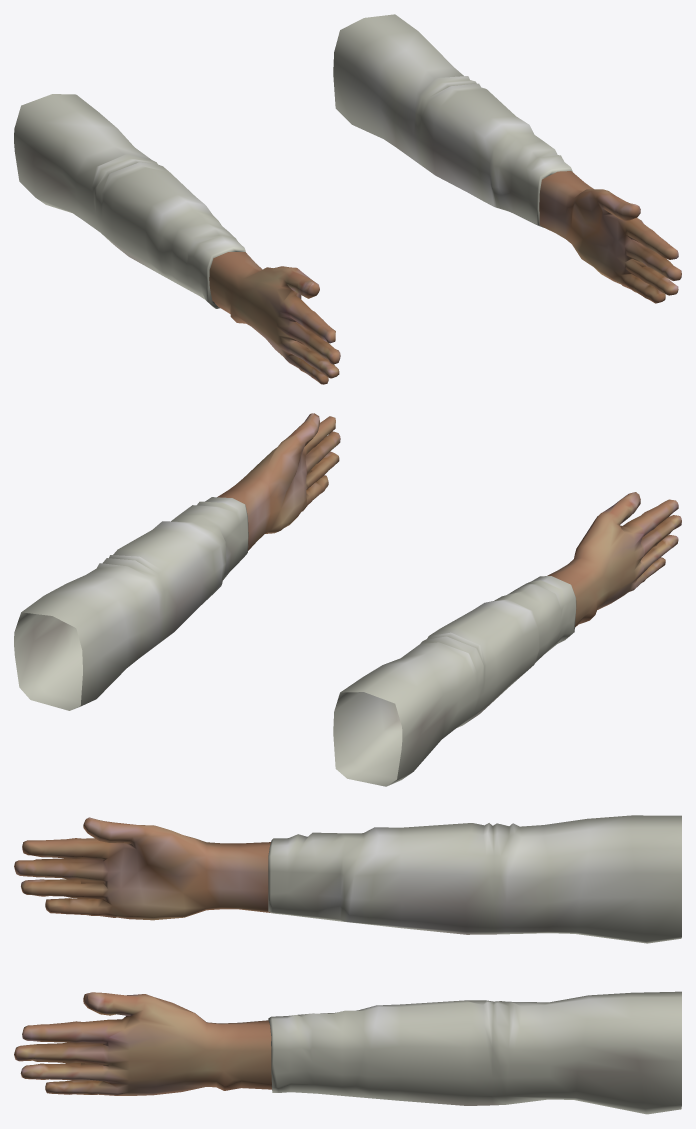
Rendered from arms.FBX.
3 views of the same model, one above another, from view 1: azimuth 30°, elevation 25°; view 2: azimuth 150°, elevation 25°; view 3: azimuth 270°, elevation 25° (orthographic). The views are drawn at different scales.
Visible parts, largest first — view 1: Object02, Object01, Box17, Box02; view 2: Object02, Object01, Box02, Box17; view 3: Object01, Object02, Box17, Box02.
Boxes of the visible parts, x1,y1,x2,y2 form: Object02: [333, 14, 573, 227]; Object01: [14, 94, 245, 308]; Box17: [539, 171, 681, 303]; Box02: [209, 252, 340, 384]; Object02: [14, 497, 248, 710]; Object01: [333, 576, 576, 786]; Box02: [547, 492, 681, 627]; Box17: [217, 413, 340, 550]; Object01: [268, 815, 681, 943]; Object02: [268, 991, 681, 1114]; Box17: [14, 992, 271, 1095]; Box02: [14, 817, 270, 920].
Bounding box in the file's own units: 0.4906 × 0.1236 × 0.6553.
